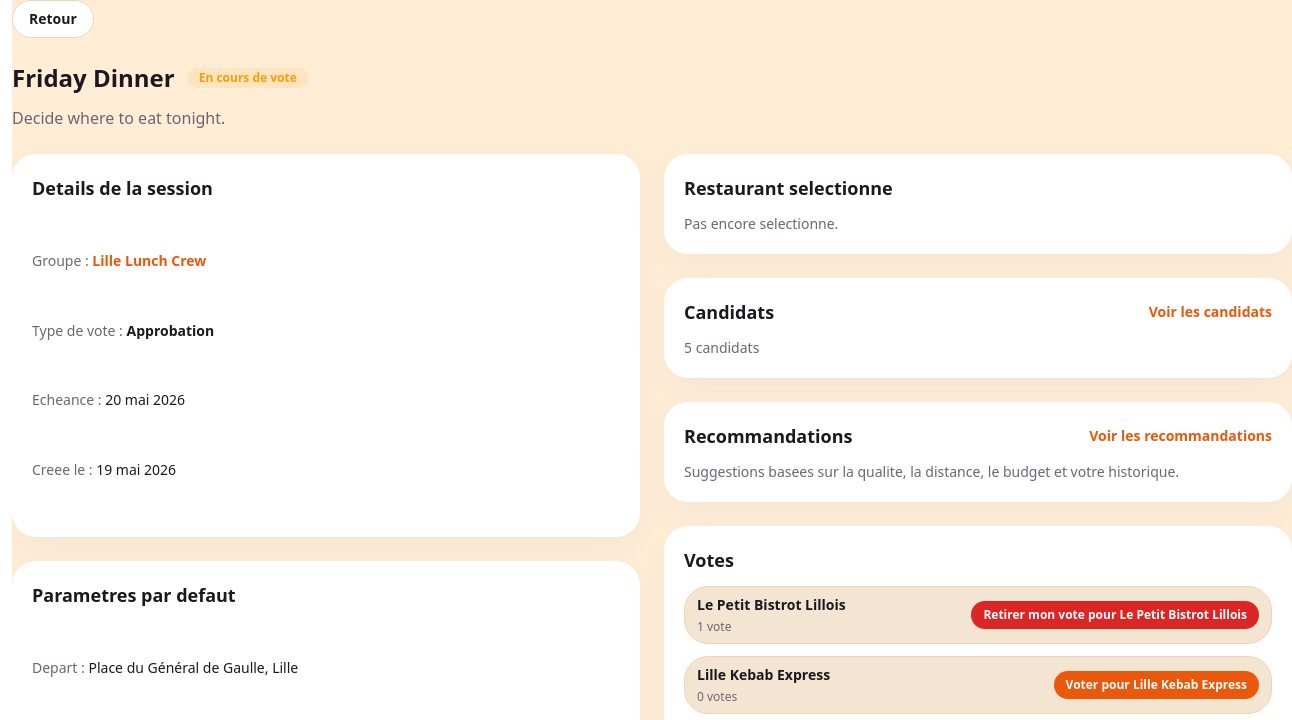
Test: SessionDetailPage › keeps default MSW vote removals visible for first and last candidates
What coordinates should you click on to do the following:
click the button "Retirer mon vote pour Le Petit Bistrot Lillois"
I would click on:
 (1115, 615)
Its box is left=971, top=601, right=1259, bottom=629.
(page scrolled)
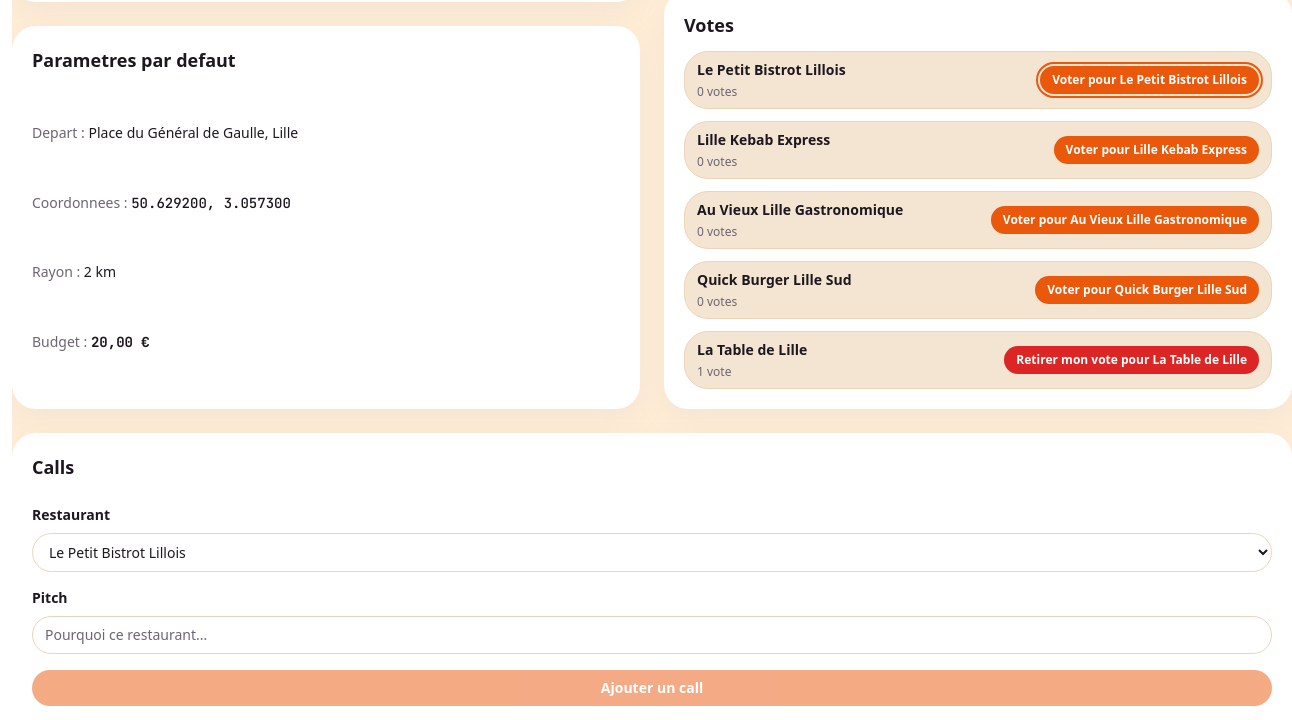
Expected: the button "Voter pour Le Petit Bistrot Lillois" is shown, left=1040, top=66, right=1259, bottom=94
What coordinates should you click on to do the following:
click the button "Retirer mon vote pour La Table de Lille"
I would click on:
 (1132, 360)
Its box is left=1004, top=346, right=1259, bottom=374.
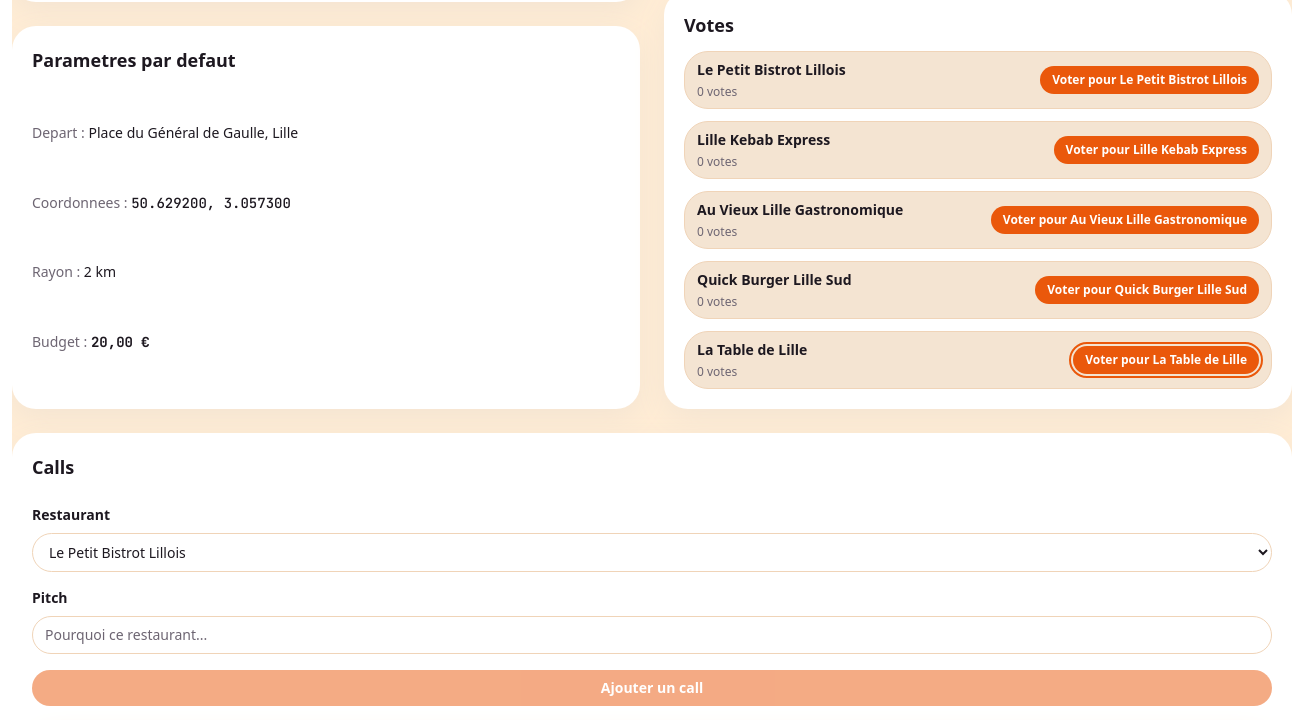
Expected: the button "Voter pour La Table de Lille" is shown, left=1073, top=346, right=1259, bottom=374
